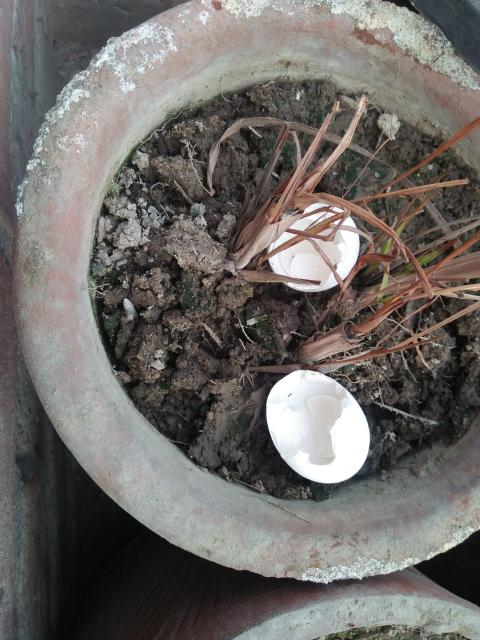Roto: (266, 369, 372, 484), (266, 201, 360, 292)
